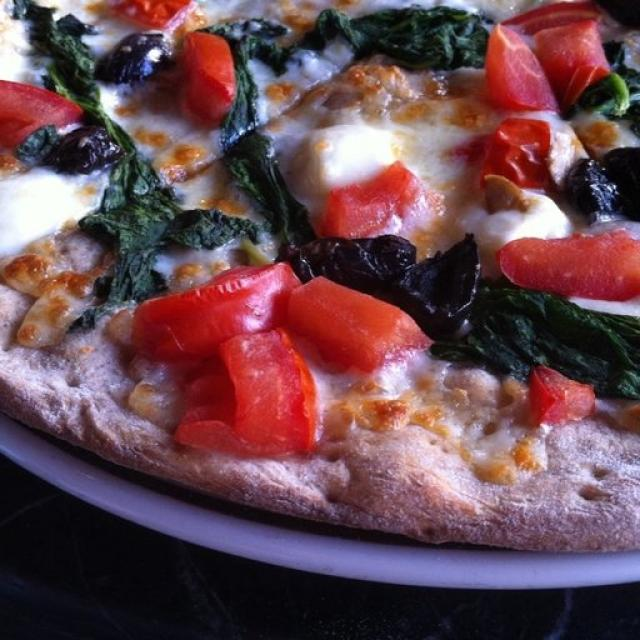Basil: (93, 156, 240, 277), (29, 4, 127, 179), (232, 68, 312, 264), (308, 237, 482, 321), (464, 285, 636, 367), (301, 0, 484, 73), (214, 13, 294, 76)
Tomato: (160, 323, 327, 457), (274, 264, 430, 369), (486, 15, 606, 122), (142, 277, 305, 355), (508, 228, 640, 304), (316, 166, 412, 236), (173, 36, 229, 121), (518, 0, 618, 46), (0, 76, 64, 142), (533, 359, 596, 422), (119, 0, 189, 25)
